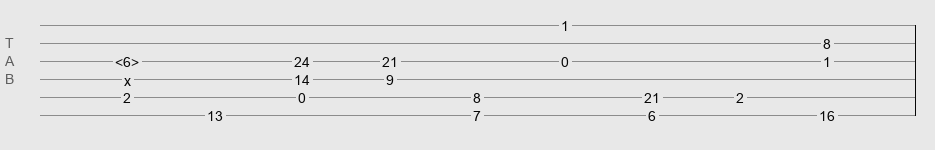0: (298, 90, 306, 100), (561, 54, 569, 64)
1: (561, 18, 569, 28), (823, 54, 831, 64)
13: (207, 108, 223, 118)
14: (294, 72, 310, 82)
16: (819, 108, 835, 118)
2: (123, 90, 131, 100), (736, 90, 744, 100)
21: (382, 54, 398, 64), (644, 90, 660, 100)
24: (294, 54, 310, 64)
6: (648, 108, 656, 118)
7: (473, 108, 481, 118)
8: (473, 90, 481, 100), (823, 36, 831, 46)
9: (386, 72, 394, 82)
harmonic: (115, 54, 139, 64)
x: (124, 73, 131, 81)
